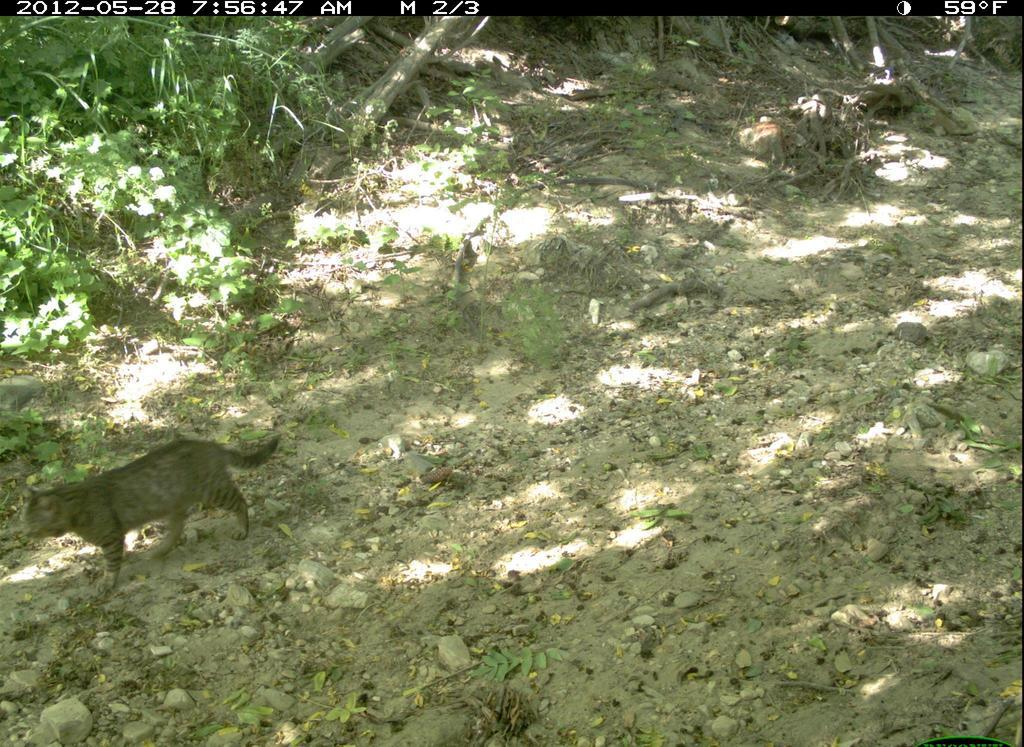cat: (12, 436, 294, 596)
